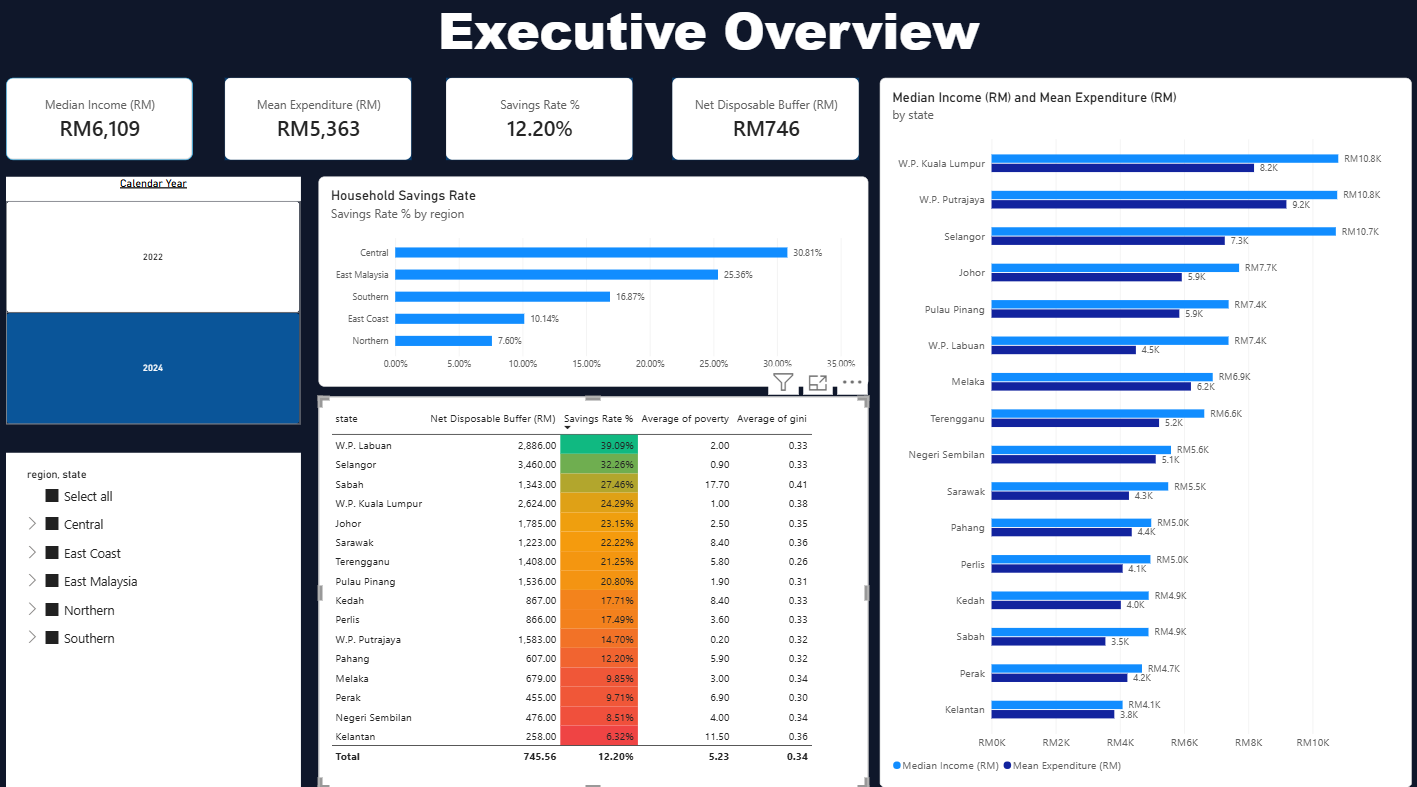

What the dashboard file says about the page in this screenshot:
{"tool":"powerbi","page":{"name":"Executive Overview","canvas":[1920,1080],"ordinal":0},"visuals":[{"type":"advancedSlicerVisual","title":"Calendar Year","fields":{"Values":["Dim_Calendar.Calendar_Year"]},"box":[20.9,244.5,395,332.3],"z":0},{"type":"slicer","fields":{"Values":["clean_dim_states.region","clean_dim_states.state"]},"box":[20,614.4,395,451.4],"z":1000},{"type":"cardVisual","fields":{"Data":["clean_fact_income_hies.Median Income (RM)"]},"box":[20.9,112.8,250,110],"z":2000},{"type":"cardVisual","fields":{"Data":["clean_fact_income_hies.Mean Expenditure (RM)"]},"box":[313.2,112.2,250,110],"z":3000},{"type":"cardVisual","fields":{"Data":["clean_fact_income_hies.Net Disposable Buffer (RM)"]},"box":[913.2,112.8,250,110],"z":4000},{"type":"cardVisual","fields":{"Data":["clean_fact_income_hies.Savings Rate %"]},"box":[609.7,112.2,250,110],"z":5000},{"type":"clusteredBarChart","fields":{"Category":["clean_dim_states.state"],"Y":["clean_fact_income_hies.Median Income (RM)","clean_fact_income_hies.Mean Expenditure (RM)"]},"box":[1191.1,112.8,712.6,952.9],"z":6000},{"type":"clusteredBarChart","title":"Household Savings Rate ","fields":{"Category":["clean_dim_states.region"],"Y":["clean_fact_income_hies.Savings Rate %"]},"box":[438.8,244.5,737,281.4],"z":7000},{"type":"tableEx","fields":{"Values":["clean_dim_states.state","clean_fact_income_hies.Net Disposable Buffer (RM)","clean_fact_income_hies.Savings Rate %","Avg(clean_fact_income_hies.poverty)","Avg(clean_fact_income_hies.gini)"]},"box":[438.8,539.3,737,525.9],"z":8000},{"type":"textbox","title":"Executive Overview","box":[20.9,0,1882.8,98.2],"z":9000}]}

Visuals, with their boxes in screenshot pixels (x1, y1, x2, y2), scaled from the page's 1920x1080 canvas onto the 1417x787 screenshot:
"Calendar Year" advancedSlicerVisual: 15/178/307/420
slicer - clean_dim_states.region x clean_dim_states.state: 15/448/306/777
cardVisual - clean_fact_income_hies.Median Income (RM): 15/82/200/162
cardVisual - clean_fact_income_hies.Mean Expenditure (RM): 231/82/416/162
cardVisual - clean_fact_income_hies.Net Disposable Buffer (RM): 674/82/858/162
cardVisual - clean_fact_income_hies.Savings Rate %: 450/82/634/162
clusteredBarChart - clean_dim_states.state x clean_fact_income_hies.Median Income (RM): 879/82/1405/777
"Household Savings Rate " clusteredBarChart: 324/178/868/383
tableEx - clean_dim_states.state x clean_fact_income_hies.Net Disposable Buffer (RM): 324/393/868/776
"Executive Overview" textbox: 15/0/1405/72
